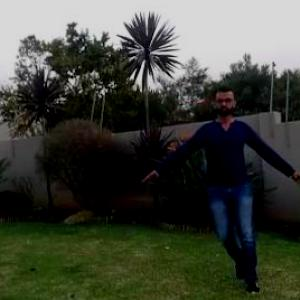land: (146, 94, 284, 264)
